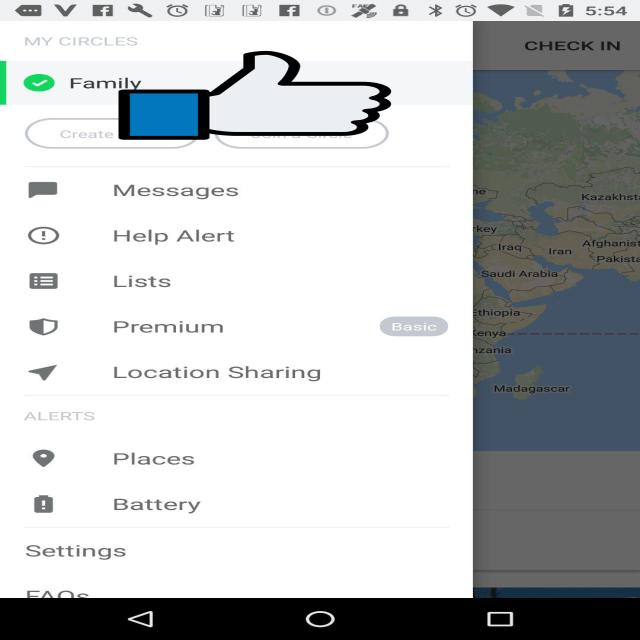privacy zuckering: (119, 49, 391, 142)
